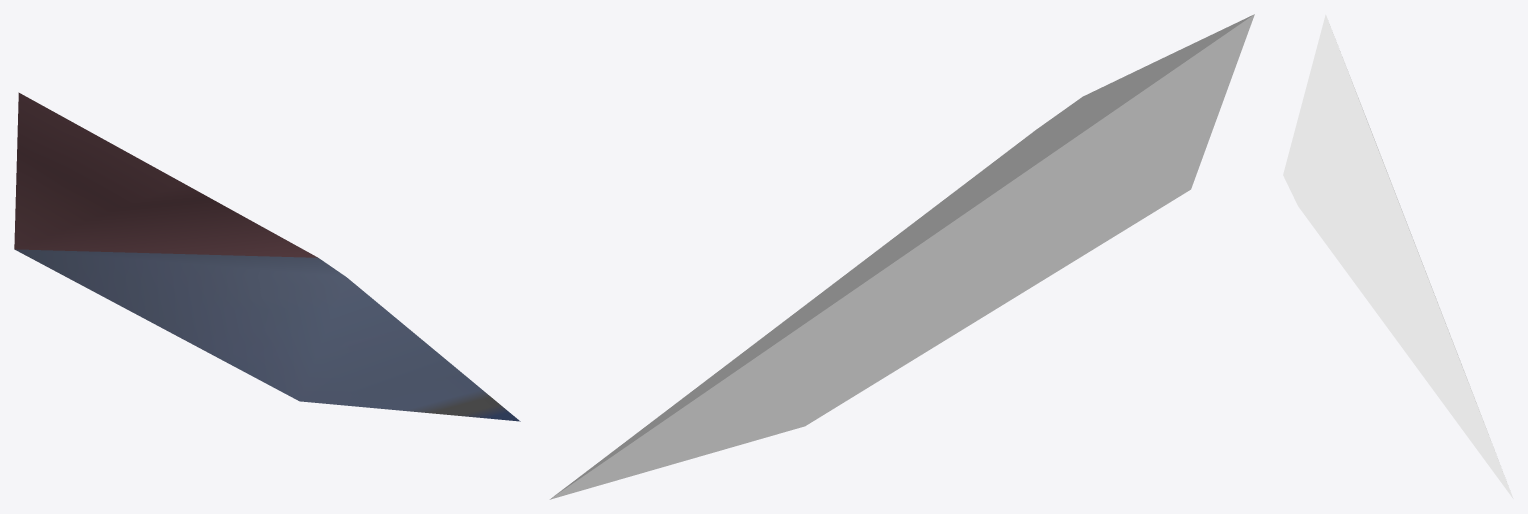
Rendered from MediumUrn_SHAT_cell_009.fbx.
3 views of the same model, side by side, from view 1: azimuth 30°, elevation 25°; view 2: azimuth 150°, elevation 25°; view 3: azimuth 270°, elevation 25° (orthographic). The views are drawn at different scales.
Visible parts, largest first — view 1: MediumUrn_SHAT_cell_009; view 2: MediumUrn_SHAT_cell_009; view 3: MediumUrn_SHAT_cell_009.
Part boxes in pixels (x1,y1,x2,y2): MediumUrn_SHAT_cell_009: (14,92,520,421); MediumUrn_SHAT_cell_009: (549,14,1254,499); MediumUrn_SHAT_cell_009: (1283,14,1513,498).
Size of the model in its own units: 0.0757 by 0.0666 by 0.0439.
Materials: 2 (1 with a texture image).
